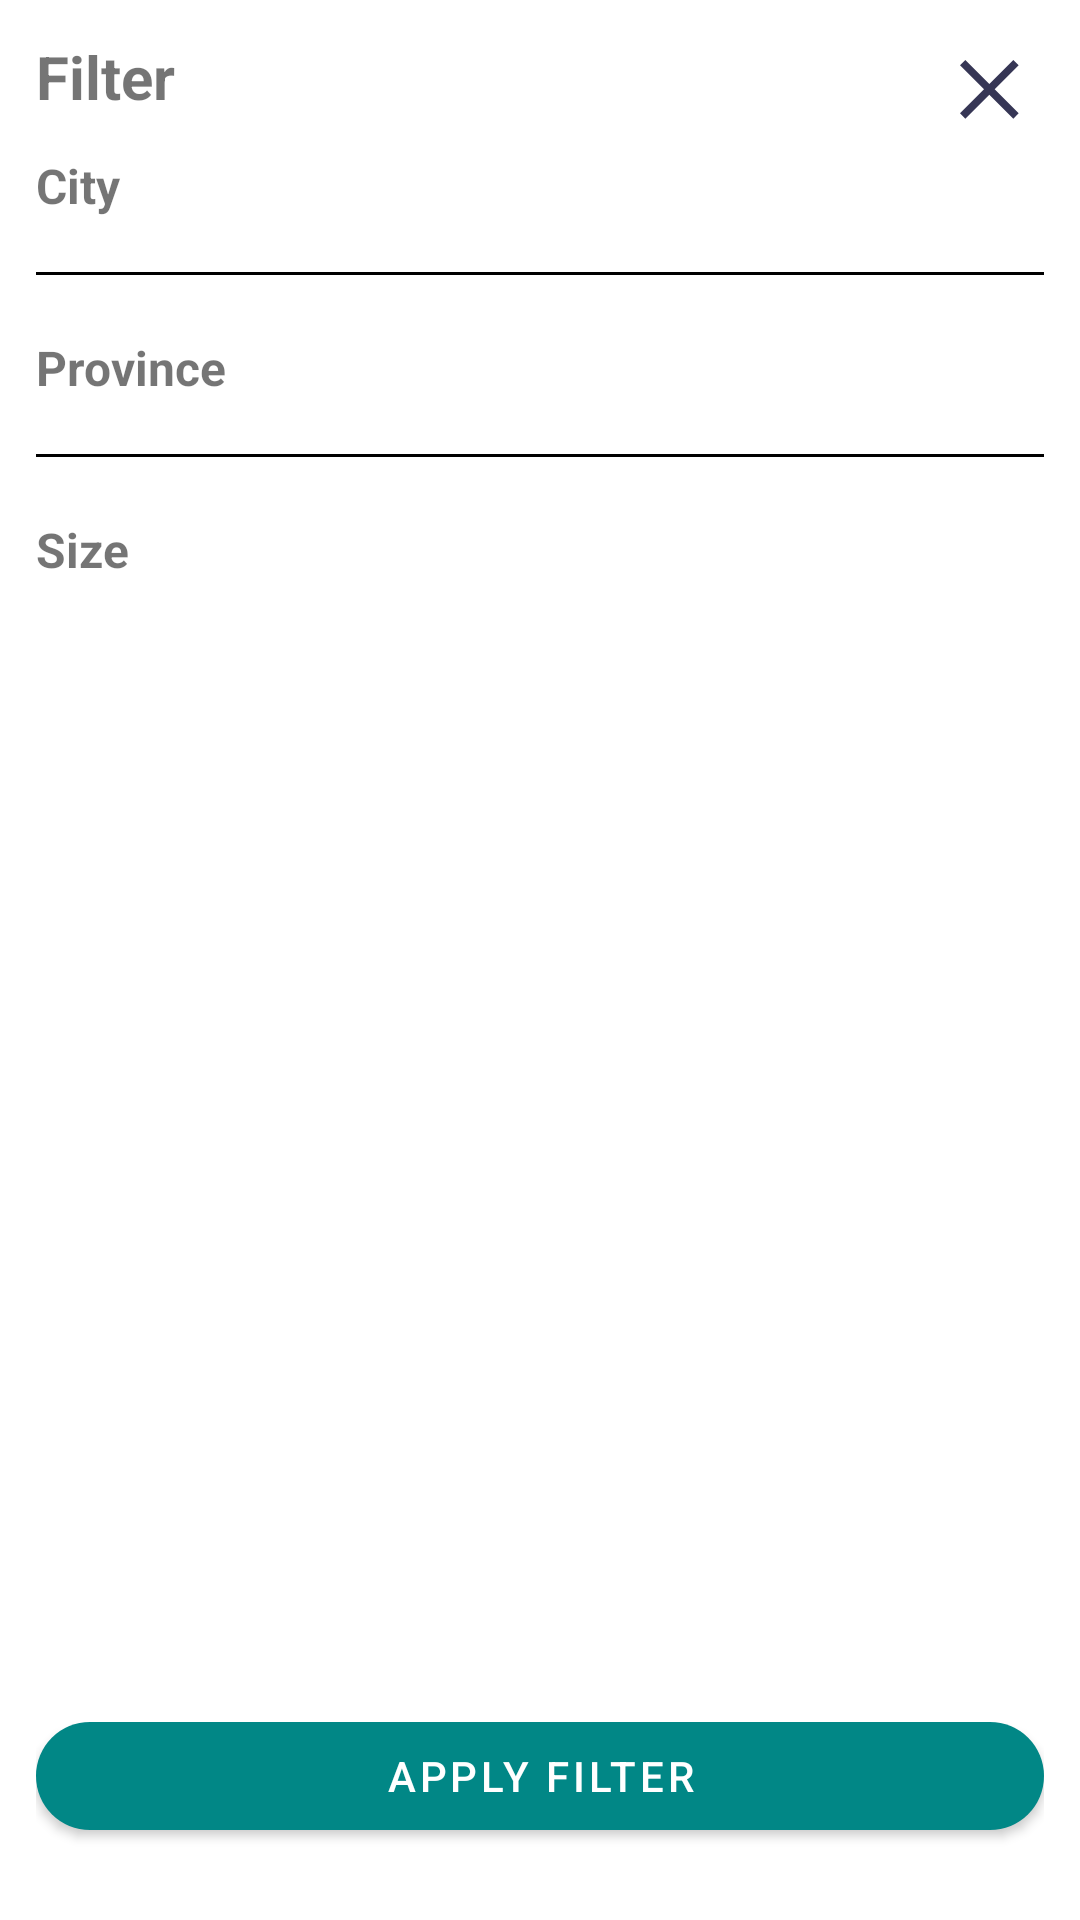

Named icons in this screenshot (1080x1920) and their bounding boxes, [x1, y1, x2, y2]:
close slate: [960, 60, 1019, 119]
